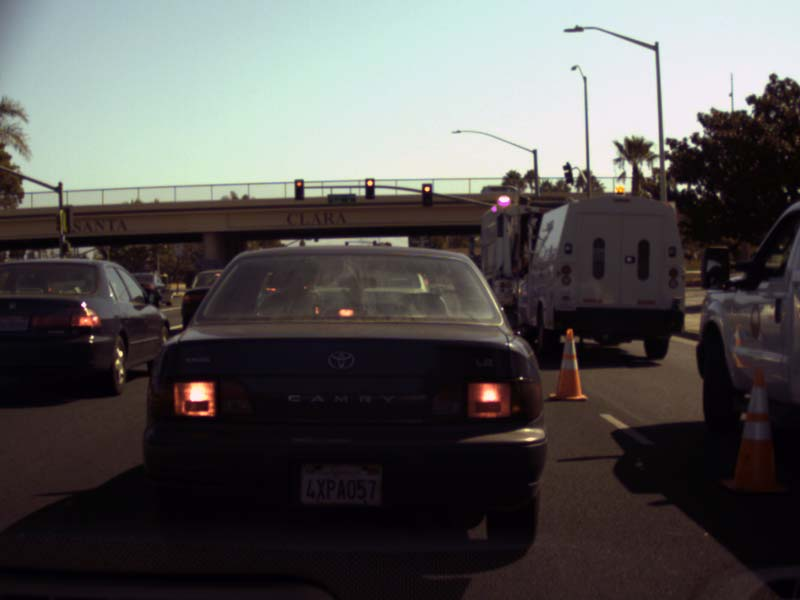Red: (422, 183, 432, 207), (294, 179, 303, 201), (365, 178, 374, 199)
